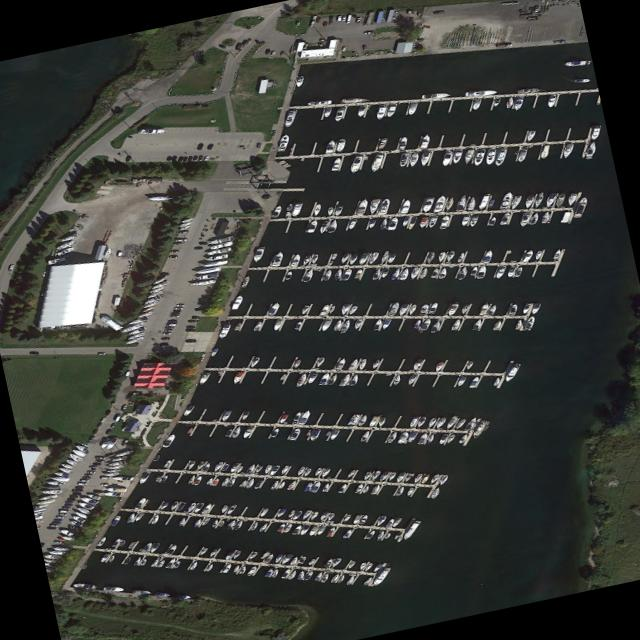ship: (571, 196, 592, 218), (98, 314, 124, 331), (371, 567, 393, 586), (119, 320, 147, 334), (402, 520, 421, 539), (503, 362, 522, 381), (493, 146, 510, 167), (498, 192, 516, 210), (452, 194, 470, 212), (282, 108, 299, 127), (205, 245, 234, 256), (194, 265, 223, 275), (470, 421, 487, 438), (348, 154, 364, 172), (369, 153, 385, 171), (209, 240, 235, 251), (373, 103, 389, 120), (217, 323, 234, 339), (251, 245, 268, 261), (444, 414, 462, 429), (209, 235, 236, 245), (472, 147, 487, 165), (432, 195, 447, 213), (420, 195, 435, 213), (483, 146, 497, 165), (200, 259, 229, 268), (355, 198, 370, 215), (276, 134, 291, 151), (205, 252, 230, 262), (463, 89, 498, 96), (58, 232, 80, 243), (126, 325, 148, 336), (149, 279, 171, 290), (297, 410, 313, 425), (522, 316, 538, 331), (377, 198, 392, 214), (543, 191, 558, 207), (417, 150, 432, 166), (417, 133, 432, 149), (476, 194, 491, 210), (560, 142, 575, 158), (229, 295, 246, 309), (229, 370, 247, 383), (195, 271, 221, 280), (55, 239, 76, 250), (142, 294, 163, 305), (58, 527, 79, 538), (127, 315, 150, 325), (78, 495, 101, 505), (290, 201, 305, 216), (384, 102, 399, 117), (585, 141, 599, 157), (463, 416, 479, 430), (445, 302, 461, 316), (440, 150, 454, 166), (538, 143, 552, 159), (420, 92, 451, 99), (71, 581, 98, 589), (338, 319, 353, 333), (294, 373, 309, 387), (124, 335, 145, 345), (316, 219, 331, 233), (367, 250, 382, 264), (405, 101, 420, 115), (493, 264, 508, 278), (455, 266, 470, 280), (512, 95, 526, 110), (399, 199, 414, 213), (70, 447, 89, 458), (386, 302, 402, 315), (104, 436, 120, 449), (136, 471, 152, 484), (368, 198, 381, 214), (271, 251, 284, 267), (463, 148, 476, 164), (397, 151, 410, 167), (394, 431, 411, 443), (67, 451, 84, 463), (533, 191, 545, 208), (56, 246, 76, 256), (141, 299, 161, 309), (338, 372, 352, 386), (319, 317, 333, 331), (563, 59, 591, 66), (271, 317, 285, 331), (240, 425, 255, 438), (308, 428, 323, 441), (162, 434, 177, 447), (197, 371, 212, 384), (506, 303, 521, 316), (476, 303, 491, 316), (269, 205, 284, 218), (333, 106, 346, 121), (301, 269, 316, 282), (518, 211, 531, 226), (384, 218, 399, 231), (555, 192, 567, 208), (151, 275, 170, 285), (113, 449, 134, 458), (136, 309, 157, 318), (126, 331, 147, 340), (340, 97, 371, 103), (334, 357, 348, 370), (398, 302, 411, 316), (347, 413, 361, 426), (450, 318, 464, 331), (327, 219, 340, 233), (305, 220, 319, 233), (307, 99, 333, 106), (324, 140, 337, 154), (357, 251, 371, 264), (267, 303, 281, 316), (190, 279, 216, 286), (339, 250, 353, 263), (470, 97, 484, 110), (499, 212, 513, 225), (528, 211, 541, 225), (438, 215, 451, 229), (426, 214, 439, 228), (566, 191, 579, 205), (521, 249, 535, 262), (481, 250, 495, 263), (524, 129, 538, 142), (451, 149, 464, 163), (406, 215, 419, 229), (325, 373, 340, 385), (288, 428, 303, 440), (74, 443, 92, 453), (146, 289, 164, 299), (76, 501, 96, 510), (133, 497, 148, 509), (484, 304, 499, 316), (137, 128, 167, 134), (434, 416, 449, 428), (546, 93, 558, 108), (467, 195, 478, 211), (47, 475, 72, 482), (75, 505, 92, 515), (367, 414, 380, 427), (386, 430, 399, 443), (335, 138, 348, 151), (341, 268, 354, 281), (347, 252, 360, 265), (375, 137, 388, 150), (298, 523, 312, 535), (377, 469, 391, 481), (394, 471, 408, 483), (410, 358, 424, 370), (317, 373, 331, 385), (328, 428, 342, 440), (356, 414, 370, 426), (102, 585, 126, 592), (219, 409, 233, 421), (182, 404, 196, 416), (34, 498, 55, 506), (37, 493, 58, 501), (590, 125, 602, 139), (467, 376, 481, 388), (443, 196, 455, 210), (374, 515, 389, 526), (284, 480, 299, 491), (510, 194, 521, 209), (146, 195, 173, 201), (85, 492, 103, 501), (517, 87, 544, 93), (318, 304, 331, 316), (230, 426, 243, 438), (306, 371, 319, 383), (407, 415, 419, 428), (417, 432, 430, 444), (430, 321, 443, 333), (432, 360, 445, 372), (406, 303, 419, 315), (330, 158, 342, 171), (417, 215, 429, 228), (476, 266, 488, 279), (398, 267, 410, 280), (300, 508, 314, 519), (290, 524, 304, 535), (279, 553, 293, 564), (346, 304, 360, 315), (248, 356, 262, 367), (319, 466, 333, 477), (268, 464, 282, 475), (147, 542, 161, 553), (140, 541, 154, 552), (419, 319, 433, 330), (455, 375, 469, 386), (379, 249, 390, 263), (559, 212, 573, 223), (148, 285, 165, 294), (70, 514, 87, 523), (109, 454, 128, 462), (524, 193, 534, 208), (347, 358, 359, 370), (406, 373, 418, 385), (278, 412, 290, 424), (380, 318, 392, 330), (416, 415, 428, 427), (108, 459, 126, 467), (111, 475, 135, 481), (73, 510, 89, 519), (530, 302, 542, 314), (520, 302, 532, 314), (347, 217, 359, 229), (289, 254, 301, 266), (540, 211, 552, 223), (504, 96, 516, 108), (307, 524, 320, 535), (324, 526, 337, 537), (291, 509, 304, 520), (302, 570, 315, 581), (332, 318, 343, 331), (310, 481, 323, 492), (406, 431, 419, 442), (99, 437, 112, 448), (184, 459, 197, 470), (471, 319, 484, 330), (457, 433, 470, 444), (455, 418, 468, 429), (417, 304, 430, 315), (312, 203, 323, 216), (389, 268, 402, 279), (444, 250, 457, 261), (409, 266, 420, 279), (517, 148, 528, 161), (428, 473, 442, 483), (244, 464, 258, 474), (165, 544, 179, 554), (245, 566, 259, 576), (164, 558, 178, 568), (109, 515, 123, 525), (200, 503, 214, 513), (469, 213, 479, 227), (507, 264, 517, 278), (409, 153, 419, 167), (105, 486, 128, 492), (103, 491, 126, 497), (57, 466, 74, 474), (141, 305, 158, 313), (64, 457, 79, 466), (420, 473, 432, 484), (430, 487, 442, 498), (348, 374, 360, 385), (314, 356, 326, 367), (339, 303, 350, 315), (353, 317, 364, 329), (244, 478, 256, 489), (360, 430, 372, 441), (426, 416, 438, 427), (193, 501, 205, 512), (437, 433, 449, 444), (427, 302, 439, 313), (380, 266, 391, 278), (371, 269, 383, 280), (333, 268, 344, 280), (239, 276, 251, 287), (397, 137, 408, 149), (330, 557, 343, 567), (345, 575, 358, 585), (230, 549, 243, 559), (225, 504, 238, 514), (185, 502, 198, 512), (459, 213, 469, 226), (274, 508, 288, 517), (107, 463, 125, 470), (157, 501, 171, 510), (438, 474, 449, 485), (371, 469, 382, 480), (372, 319, 383, 330), (376, 416, 387, 427), (513, 319, 524, 330), (386, 252, 397, 263), (322, 269, 333, 280), (438, 267, 449, 278), (257, 522, 269, 532), (369, 484, 381, 494), (394, 486, 406, 496), (258, 507, 270, 517), (319, 573, 331, 583), (371, 562, 383, 572), (286, 569, 298, 579), (263, 553, 275, 563), (391, 517, 403, 527), (272, 553, 284, 563), (353, 483, 365, 493), (357, 358, 367, 370), (212, 461, 224, 471), (225, 519, 237, 529), (125, 512, 137, 522), (169, 500, 181, 510), (149, 514, 161, 524), (491, 320, 503, 330), (411, 319, 423, 329), (445, 433, 457, 443), (333, 203, 343, 215), (251, 321, 263, 331), (436, 250, 446, 262), (419, 267, 429, 279), (59, 462, 76, 469), (60, 534, 77, 541), (341, 529, 354, 538), (312, 571, 325, 580), (328, 573, 341, 582), (312, 467, 325, 476), (345, 469, 358, 478), (148, 558, 161, 567), (199, 516, 212, 525), (357, 104, 366, 117), (41, 489, 64, 494), (47, 549, 66, 555), (247, 551, 261, 559), (318, 510, 329, 520), (286, 508, 297, 518), (393, 530, 404, 540), (280, 568, 291, 578), (362, 470, 373, 480), (240, 410, 251, 420), (279, 464, 290, 474), (269, 480, 280, 490), (262, 464, 273, 474), (195, 460, 206, 470), (44, 480, 66, 485), (193, 475, 204, 485), (222, 563, 233, 573), (226, 477, 237, 487), (295, 75, 305, 86), (323, 106, 333, 117), (301, 254, 312, 264), (283, 270, 294, 280), (425, 251, 435, 262), (487, 216, 498, 226), (455, 252, 466, 262), (514, 267, 525, 277), (309, 510, 321, 519), (361, 577, 373, 586), (259, 550, 271, 559), (302, 467, 314, 476), (302, 482, 314, 491), (153, 591, 171, 597), (52, 471, 70, 477), (45, 553, 63, 559), (110, 538, 122, 547), (99, 553, 111, 562), (233, 520, 245, 529), (175, 501, 187, 510), (178, 221, 193, 228), (50, 546, 71, 551), (103, 471, 120, 477), (33, 503, 50, 509), (316, 525, 326, 535), (352, 514, 362, 524), (403, 472, 413, 482), (296, 570, 306, 580), (376, 530, 386, 540), (292, 411, 302, 421), (296, 465, 306, 475), (321, 482, 331, 492), (131, 589, 151, 594), (229, 462, 239, 472), (42, 484, 62, 489), (249, 521, 259, 531), (300, 304, 310, 314), (367, 218, 377, 228), (552, 249, 562, 259), (469, 266, 479, 276), (429, 268, 439, 278), (400, 216, 410, 226), (337, 484, 348, 493), (342, 513, 353, 522), (412, 473, 423, 482), (386, 471, 397, 480), (346, 560, 357, 569), (323, 558, 334, 567), (363, 562, 374, 571), (263, 568, 274, 577), (393, 374, 402, 385), (292, 359, 303, 368), (253, 480, 264, 489), (235, 464, 246, 473), (96, 537, 107, 546), (224, 550, 235, 559), (188, 561, 199, 570), (132, 556, 143, 565), (220, 477, 231, 486), (192, 518, 203, 527), (177, 517, 188, 526), (134, 512, 145, 521), (464, 360, 475, 369), (380, 218, 389, 229), (353, 269, 364, 278), (233, 322, 244, 331), (70, 520, 84, 527), (275, 524, 287, 532), (364, 531, 376, 539), (283, 523, 293, 532), (359, 515, 369, 524), (405, 487, 415, 496), (270, 569, 280, 578), (371, 359, 381, 368), (202, 462, 212, 471), (207, 548, 217, 557), (46, 558, 61, 564), (327, 304, 337, 313), (293, 321, 303, 330), (460, 304, 470, 313), (492, 377, 502, 386), (210, 347, 220, 356), (310, 253, 319, 263), (534, 249, 543, 259), (385, 518, 396, 526), (198, 547, 209, 555), (126, 540, 137, 548), (171, 561, 182, 569), (204, 564, 215, 572), (237, 479, 248, 487), (181, 217, 195, 223), (337, 574, 346, 583), (271, 428, 280, 437), (163, 459, 172, 468), (187, 475, 196, 484), (238, 565, 247, 574), (232, 564, 241, 573), (157, 559, 166, 568), (493, 97, 502, 106), (326, 512, 336, 520), (289, 557, 299, 565), (297, 556, 307, 564), (254, 464, 264, 472), (106, 468, 122, 473), (220, 463, 230, 471), (117, 539, 127, 547), (211, 478, 221, 486), (326, 205, 334, 215), (178, 225, 191, 231), (306, 558, 317, 565), (278, 374, 289, 381), (223, 429, 234, 436), (105, 247, 112, 258), (177, 594, 192, 599), (278, 481, 287, 489), (427, 434, 435, 443), (160, 475, 169, 483), (206, 477, 215, 485), (220, 504, 228, 513), (573, 78, 591, 82), (285, 203, 294, 211), (487, 198, 495, 207), (357, 562, 367, 569), (122, 557, 132, 564), (216, 520, 226, 527), (362, 485, 370, 493), (108, 554, 116, 562), (211, 519, 219, 527), (152, 454, 161, 461), (139, 558, 148, 565), (154, 474, 161, 482), (186, 427, 194, 434), (330, 252, 338, 259), (283, 211, 292, 217), (385, 532, 392, 539), (482, 425, 489, 431), (325, 520, 335, 523), (325, 430, 331, 435), (81, 565, 88, 569), (485, 421, 491, 425)
small-vehicle: (345, 14, 352, 24), (114, 413, 122, 421), (217, 43, 227, 49), (196, 143, 204, 150), (104, 452, 114, 457), (124, 155, 132, 161), (170, 155, 178, 161), (207, 143, 215, 149), (72, 488, 84, 492), (80, 475, 92, 479), (95, 456, 107, 460), (105, 428, 113, 434), (104, 409, 112, 415), (120, 405, 128, 411), (65, 497, 76, 501), (55, 515, 66, 519), (91, 461, 102, 465), (92, 489, 103, 493), (308, 21, 315, 27), (327, 20, 334, 26), (533, 5, 539, 12), (124, 371, 131, 377), (109, 422, 116, 428), (234, 44, 242, 49), (52, 521, 62, 525), (46, 526, 56, 530), (121, 440, 129, 445), (175, 239, 188, 242), (433, 11, 445, 14), (361, 44, 367, 50), (336, 15, 342, 21), (270, 50, 276, 56), (316, 16, 322, 22), (192, 155, 198, 161), (116, 252, 122, 258), (87, 470, 96, 474), (88, 465, 97, 469), (185, 339, 197, 342), (355, 17, 362, 22), (8, 265, 15, 270), (255, 142, 262, 147), (88, 436, 95, 441), (197, 241, 208, 244), (63, 503, 74, 506), (163, 326, 174, 329), (187, 319, 198, 322), (158, 342, 169, 345), (165, 323, 176, 326), (81, 443, 89, 447), (168, 255, 178, 258), (322, 21, 328, 26), (341, 46, 347, 51), (280, 51, 285, 57), (363, 31, 373, 34), (197, 155, 203, 160), (187, 156, 193, 161), (173, 242, 183, 245), (165, 156, 171, 161), (178, 156, 184, 161), (182, 156, 188, 161), (265, 49, 271, 54), (176, 303, 186, 306), (58, 513, 68, 516), (68, 494, 78, 497), (72, 492, 82, 495), (52, 540, 62, 543), (74, 485, 84, 488), (184, 328, 194, 331), (185, 325, 195, 328), (170, 311, 180, 314), (29, 351, 39, 354), (95, 459, 105, 462), (100, 417, 106, 422), (96, 422, 102, 427), (170, 250, 179, 253), (53, 518, 62, 521), (64, 500, 73, 503), (100, 483, 109, 486), (81, 479, 90, 482), (101, 476, 110, 479), (191, 316, 200, 319), (97, 352, 106, 355), (417, 10, 422, 15), (341, 16, 346, 21), (329, 15, 334, 20), (93, 430, 98, 435), (111, 399, 116, 404), (57, 537, 65, 540), (178, 231, 189, 233), (59, 510, 70, 512), (167, 320, 178, 322), (160, 337, 171, 339), (169, 315, 180, 317), (204, 156, 209, 160), (194, 247, 204, 249), (174, 307, 184, 309), (77, 483, 87, 485), (71, 526, 81, 528), (172, 309, 182, 311), (162, 332, 172, 334), (62, 507, 71, 509), (84, 474, 93, 476), (164, 329, 173, 331), (49, 525, 57, 527), (91, 468, 97, 470)
